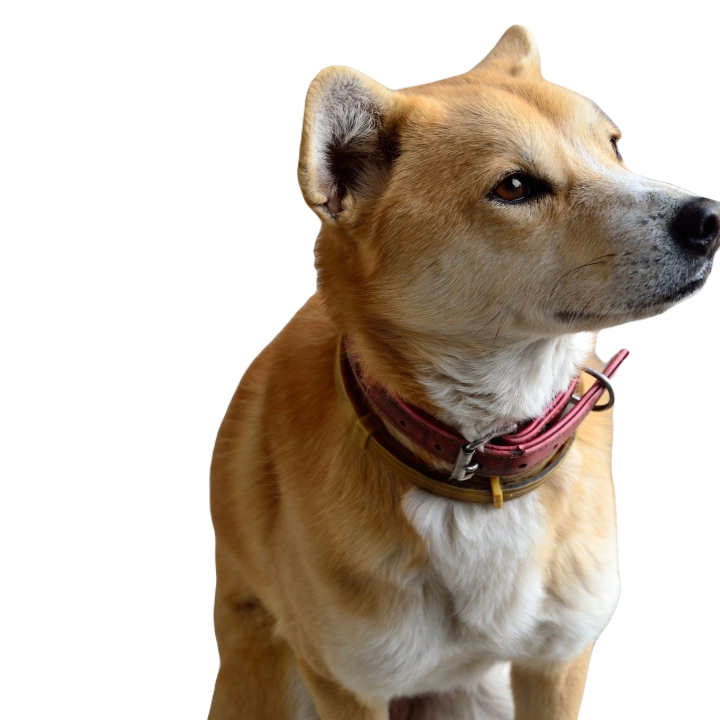Dog: (207, 28, 719, 719)
